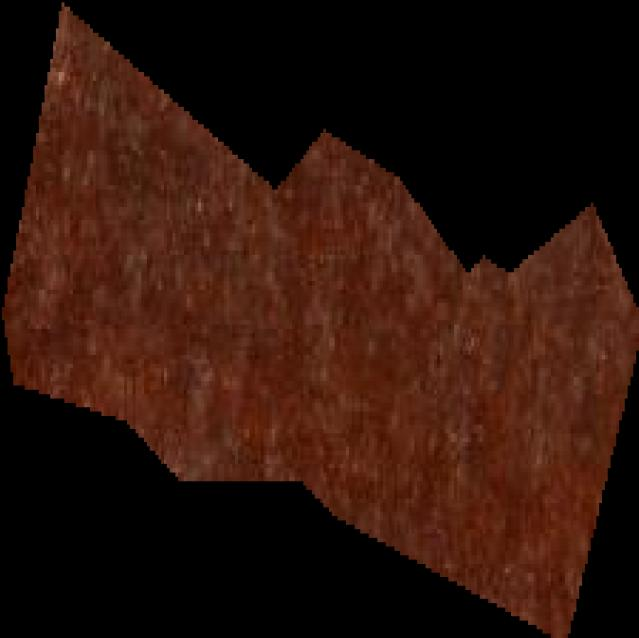Uniform Corrosion: (1, 0, 639, 638)
